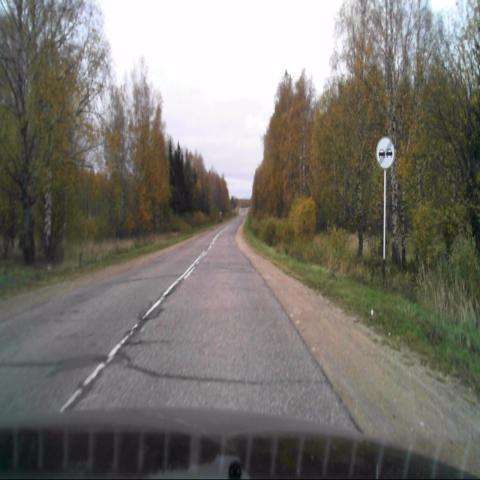3_21: (376, 136, 394, 169)
